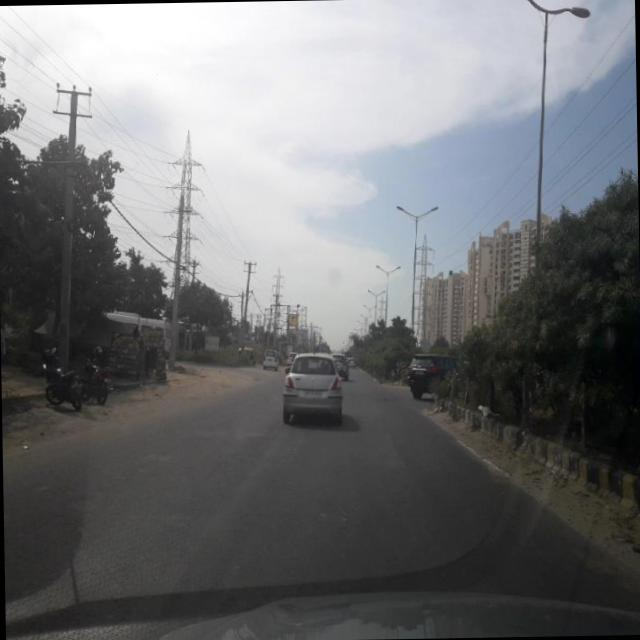crack: (19, 414, 498, 606)
